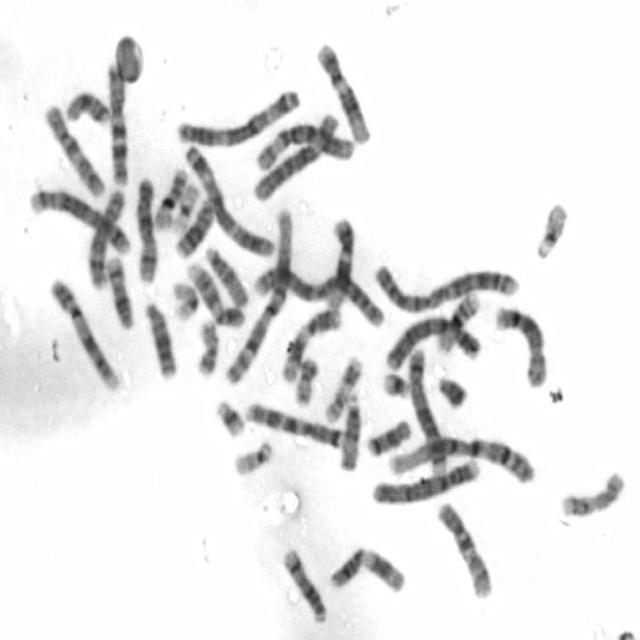A1: (222, 202, 297, 386), (384, 430, 536, 486)
A2: (248, 262, 388, 330), (368, 258, 521, 314)
A3: (180, 142, 274, 256), (172, 84, 303, 147)
B4: (367, 454, 482, 507), (381, 312, 482, 372)
B5: (26, 183, 133, 256), (406, 344, 448, 476)
C10: (41, 100, 106, 200), (434, 498, 494, 600)
C11: (278, 303, 344, 385), (325, 543, 408, 594)
C12: (313, 38, 371, 146), (322, 214, 356, 310)
C6: (250, 110, 342, 203), (253, 114, 356, 172)
C7: (242, 397, 346, 448), (104, 56, 130, 187)
C8: (491, 301, 548, 389), (83, 185, 129, 290)
C9: (46, 273, 121, 392), (184, 258, 247, 330)
D13: (141, 298, 178, 380), (172, 195, 216, 260)
D14: (278, 544, 328, 625), (102, 252, 136, 328)
D15: (202, 242, 249, 308), (337, 391, 362, 473)
E16: (432, 287, 483, 353), (151, 164, 189, 232)
E17: (556, 466, 625, 519), (321, 354, 363, 423)
E18: (362, 415, 413, 458), (64, 90, 113, 127)
F19: (172, 180, 201, 230), (169, 278, 200, 324)
F20: (192, 315, 222, 378), (291, 353, 320, 408)
G21: (212, 394, 245, 440), (379, 368, 412, 399)
G22: (532, 198, 570, 262), (231, 436, 275, 477)
X: (132, 173, 158, 285)
Y: (435, 371, 468, 410)
